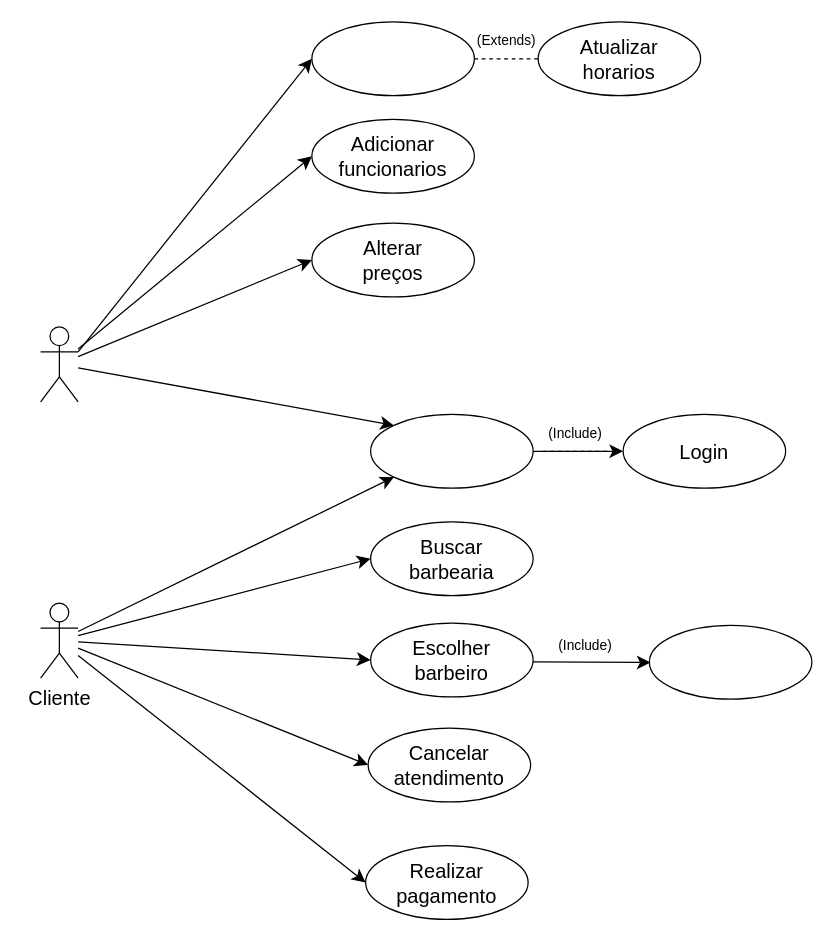
This 834x941 diagram has some shape labels left out. Each missing label, with the box of its shape:
Adicionar horários: (311, 21, 474, 96)
Barbeiro: (39, 326, 78, 402)
Marcar horário: (648, 624, 812, 699)
Registrar-se: (369, 413, 533, 488)
